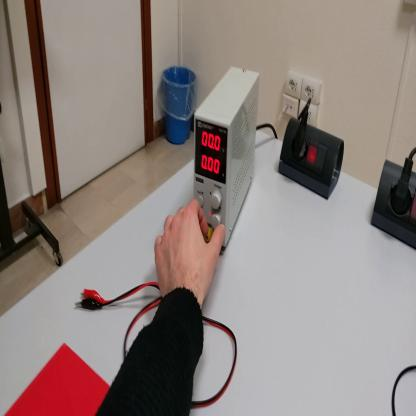hand: (154, 201, 226, 301)
power supply: (195, 70, 262, 251)
register: (3, 342, 111, 416)
socket: (279, 115, 347, 200), (373, 157, 416, 251)
